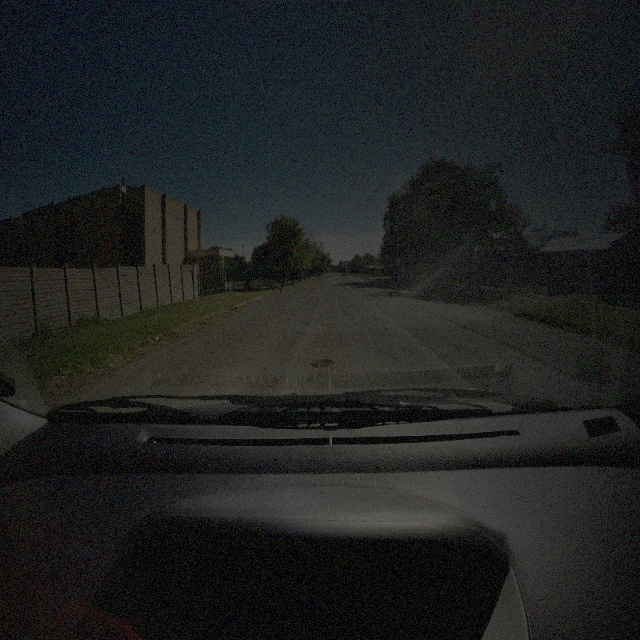pothole: (308, 353, 333, 368)
